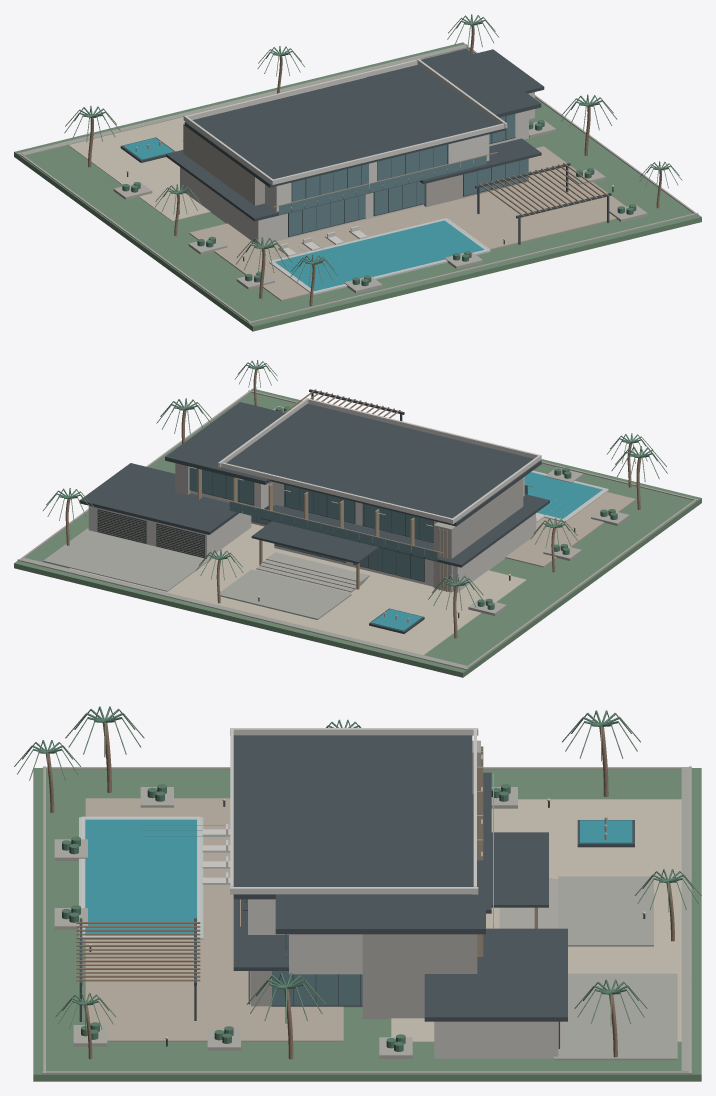
File: mansion.glb
The picture shows the model from 3 angles, top to bottom: view 1: azimuth 30°, elevation 25°; view 2: azimuth 150°, elevation 25°; view 3: azimuth 270°, elevation 25°; orthographic projection. The views are drawn at different scales.
Visible parts, largest first — view 1: island0, roofline11, rear_terrace2, pool_water195, forecourt1, roofline12, ground_wing7, tower15, floorplate13, glass69, upper_wing9, street_curb569 (+17 smaller); view 2: roofline11, island0, forecourt1, garage_roof160, driveway189, roofline12, arrival_path158, tower15, floorplate13, rear_terrace2, ground_wing7, portico150 (+21 smaller); view 3: island0, roofline11, rear_terrace2, forecourt1, pool_water195, garage_roof160, driveway189, roofline12, tower16, arrival_path158, garage159, portico150 (+18 smaller).
Boxes of the visible parts, bbox=[...] form: island0: bbox=[14, 42, 701, 331]; roofline11: bbox=[184, 65, 506, 187]; rear_terrace2: bbox=[189, 146, 626, 300]; pool_water195: bbox=[275, 220, 484, 290]; forecourt1: bbox=[68, 58, 423, 221]; roofline12: bbox=[367, 48, 541, 117]; ground_wing7: bbox=[180, 167, 423, 245]; tower15: bbox=[183, 123, 264, 205]; floorplate13: bbox=[166, 150, 447, 221]; glass69: bbox=[289, 194, 365, 236]; upper_wing9: bbox=[265, 134, 489, 211]; street_curb569: bbox=[21, 45, 467, 155]; roofline11: bbox=[226, 403, 541, 526]; island0: bbox=[14, 388, 701, 677]; forecourt1: bbox=[69, 523, 526, 655]; garage_roof160: bbox=[79, 463, 242, 534]; driveway189: bbox=[43, 528, 211, 591]; roofline12: bbox=[165, 402, 285, 484]; arrival_path158: bbox=[217, 569, 351, 619]; tower15: bbox=[433, 478, 523, 592]; floorplate13: bbox=[260, 494, 549, 567]; rear_terrace2: bbox=[505, 492, 635, 567]; ground_wing7: bbox=[274, 513, 535, 592]; portico150: bbox=[251, 521, 379, 563]; island0: bbox=[33, 768, 701, 1081]; roofline11: bbox=[233, 735, 472, 899]; rear_terrace2: bbox=[85, 798, 343, 1041]; forecourt1: bbox=[391, 799, 681, 1042]; pool_water195: bbox=[85, 819, 196, 935]; garage_roof160: bbox=[424, 928, 567, 1021]; driveway189: bbox=[553, 973, 677, 1060]; roofline12: bbox=[275, 860, 485, 934]; tower16: bbox=[362, 934, 477, 1019]; arrival_path158: bbox=[558, 876, 653, 946]; garage159: bbox=[434, 1021, 558, 1058]; portico150: bbox=[491, 832, 548, 907].
Bounding box in the file's own units: 76.37 × 12.5 × 72.05.
